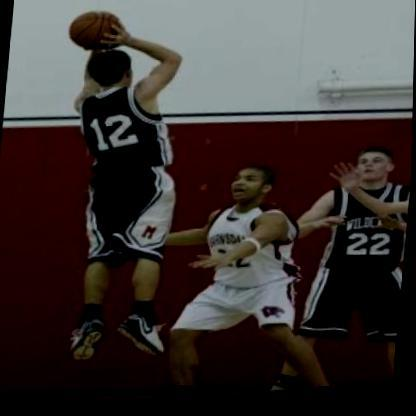basketball: (62, 2, 133, 61)
